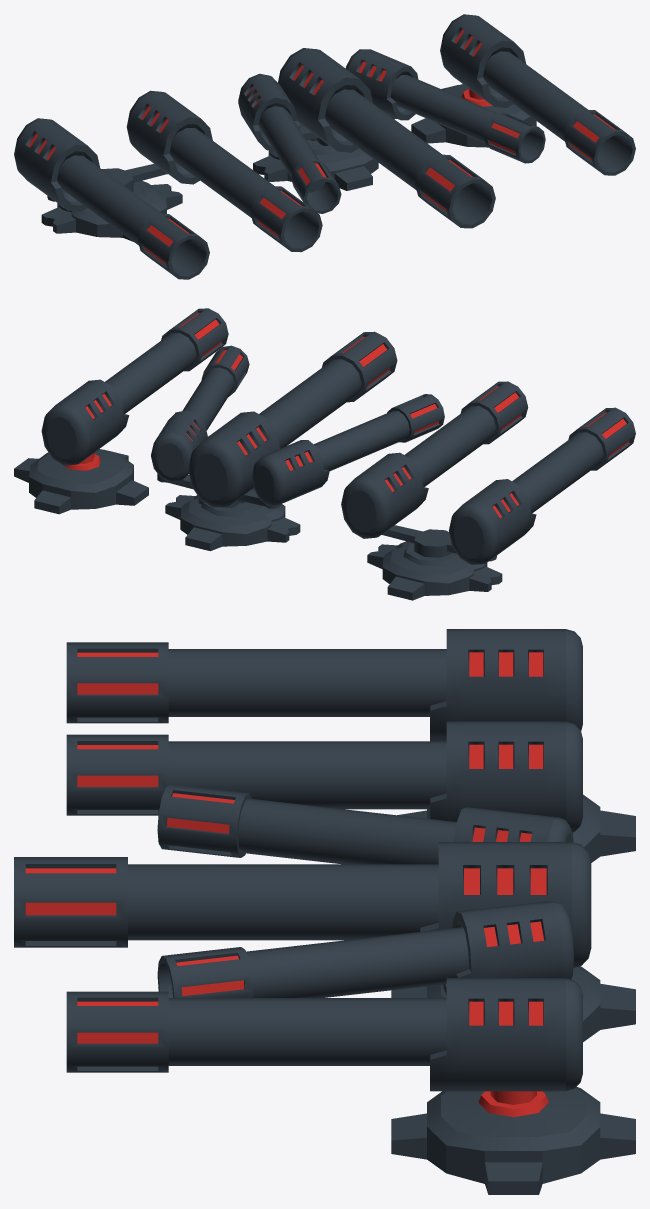
Rendered from Taret_3.fbx.
3 views of the same model, one above another, from view 1: azimuth 30°, elevation 25°; view 2: azimuth 150°, elevation 25°; view 3: azimuth 270°, elevation 25° (orthographic). The views are drawn at different scales.
Visible parts, largest first — view 1: Taret_3_1, Taret_2_1, Taret_1_1, Taret_3_2, Taret_2_2, Taret_1_2; view 2: Taret_3_1, Taret_2_1, Taret_1_1, Taret_1_2, Taret_3_2, Taret_2_2; view 3: Taret_3_1, Taret_2_1, Taret_1_1, Taret_1_2, Taret_3_2, Taret_2_2.
Boxes of the visible parts, box(x1,y1,x2,y2) form: Taret_3_1: box(238, 48, 545, 228); Taret_2_1: box(14, 90, 322, 279); Taret_1_1: box(440, 14, 635, 175); Taret_3_2: box(253, 123, 378, 190); Taret_2_2: box(41, 181, 182, 241); Taret_1_2: box(411, 84, 536, 147); Taret_3_1: box(151, 331, 444, 508); Taret_2_1: box(341, 381, 635, 565); Taret_1_1: box(41, 308, 228, 465); Taret_1_2: box(14, 449, 148, 514); Taret_3_2: box(165, 488, 300, 551); Taret_2_2: box(367, 541, 502, 600); Taret_3_1: box(14, 784, 591, 997); Taret_2_1: box(66, 629, 582, 832); Taret_1_1: box(66, 978, 582, 1091); Taret_1_2: box(391, 1086, 635, 1194); Taret_3_2: box(391, 966, 635, 1041); Taret_2_2: box(397, 794, 635, 862).
Size of the model in its own units: 360 by 68.69 by 225.
